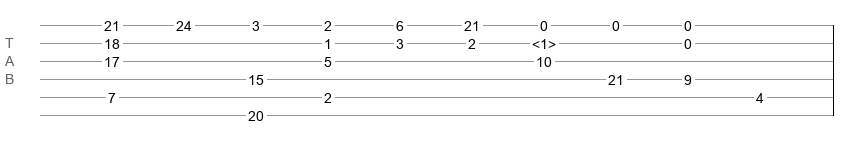0: (540, 18, 548, 28), (612, 18, 620, 28), (684, 36, 692, 46), (684, 18, 692, 28)
1: (324, 36, 332, 46)
10: (536, 54, 552, 64)
15: (248, 72, 264, 82)
17: (104, 54, 120, 64)
18: (104, 36, 120, 46)
2: (324, 90, 332, 100), (324, 18, 332, 28), (468, 36, 476, 46)
20: (248, 108, 264, 118)
21: (104, 18, 120, 28), (464, 18, 480, 28), (608, 72, 624, 82)
24: (176, 18, 192, 28)
3: (252, 18, 260, 28), (396, 36, 404, 46)
4: (756, 90, 764, 100)
5: (324, 54, 332, 64)
6: (396, 18, 404, 28)
7: (108, 90, 116, 100)
9: (684, 72, 692, 82)
harmonic: (532, 36, 556, 46)
